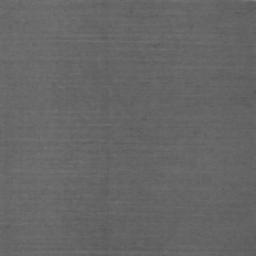Waist folding: (28, 109, 116, 173), (78, 0, 256, 19), (57, 33, 203, 52), (0, 246, 220, 256), (0, 222, 51, 229), (211, 75, 256, 81), (70, 212, 115, 215), (242, 161, 256, 166)
